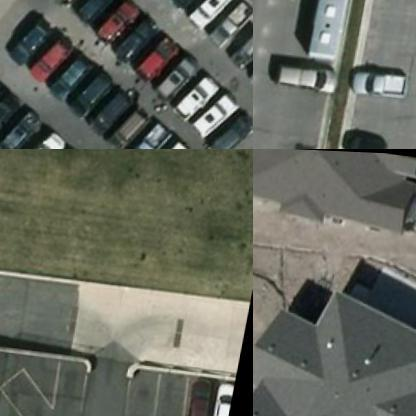car: (180, 69, 233, 121), (144, 30, 196, 82), (123, 12, 175, 64), (201, 83, 252, 136), (161, 51, 213, 102), (103, 0, 156, 46), (79, 67, 125, 118), (61, 48, 107, 99), (96, 82, 142, 132), (36, 30, 82, 80), (18, 16, 64, 66), (117, 103, 164, 148), (282, 57, 346, 90), (358, 58, 415, 95), (212, 0, 252, 48), (215, 105, 252, 148), (193, 0, 246, 29), (134, 116, 181, 148), (191, 370, 224, 415), (85, 0, 138, 25), (232, 18, 252, 69), (218, 375, 242, 415), (156, 135, 202, 148)
